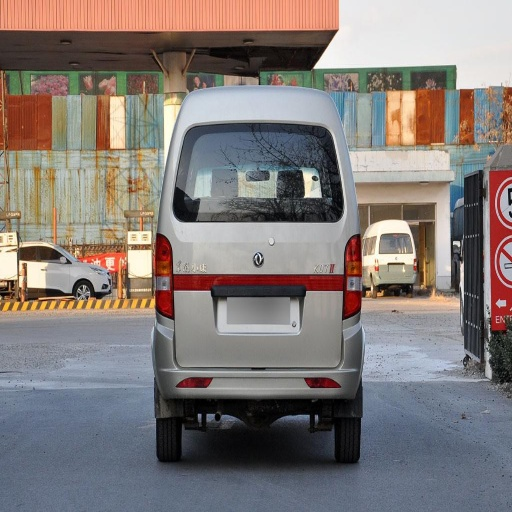back_bumper: (153, 315, 359, 401)
trunk: (169, 223, 351, 364)
